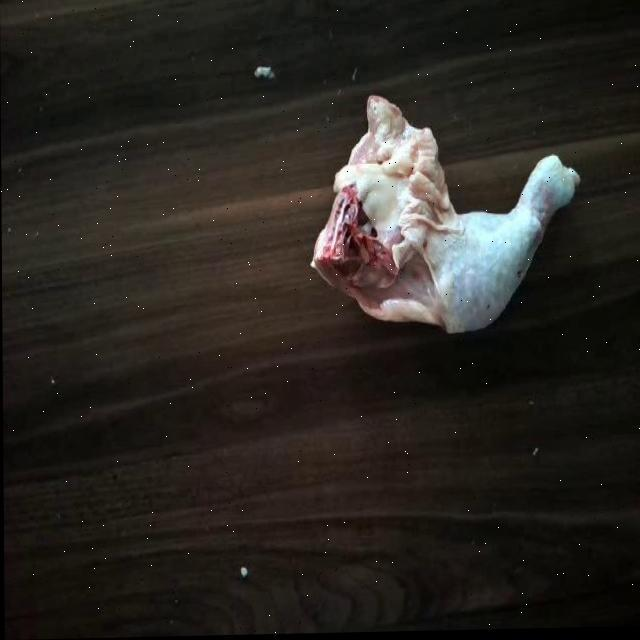quater: (306, 79, 582, 357)
